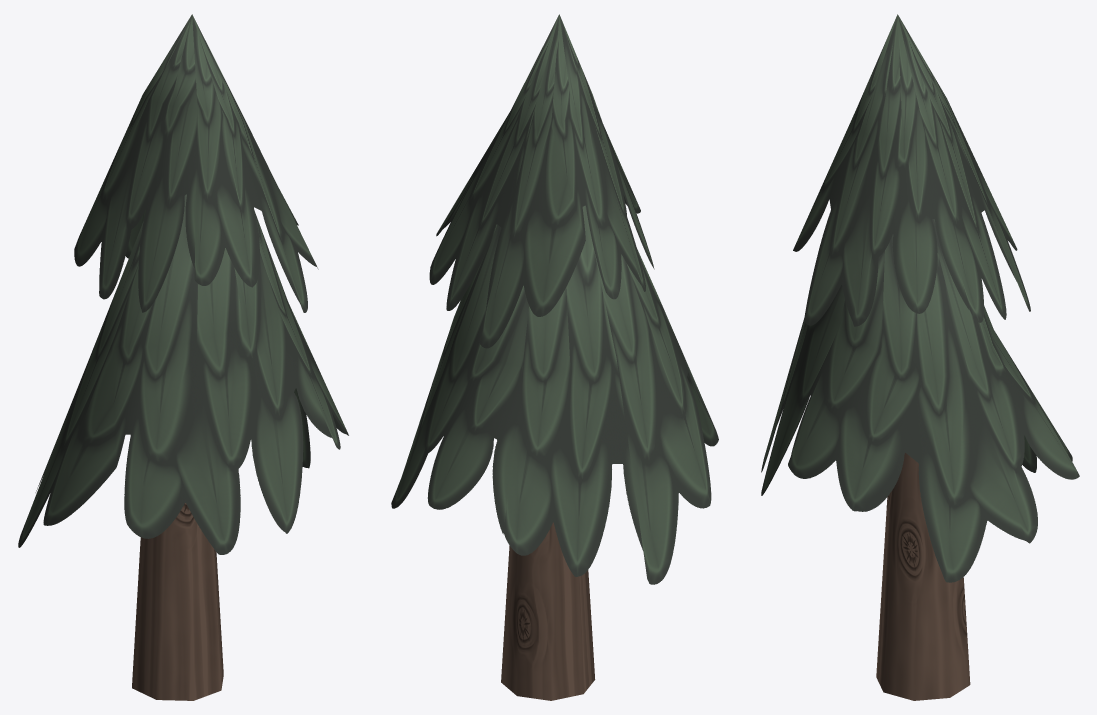
Rendered from tree_c_02.FBX.
3 renders of one model, left to right at view 1: azimuth 30°, elevation 25°; view 2: azimuth 150°, elevation 25°; view 3: azimuth 270°, elevation 25°, orthographic. The views are drawn at different scales.
Visible parts, largest first — view 1: tree_c_02; view 2: tree_c_02; view 3: tree_c_02.
Part boxes in pixels (x1=…): tree_c_02: x1=18, y1=14, x2=348, y2=700; tree_c_02: x1=391, y1=14, x2=718, y2=700; tree_c_02: x1=761, y1=14, x2=1079, y2=700.
Size of the model in its own units: 23.86 by 50.59 by 22.45.
Materials: 2 (2 with a texture image).
